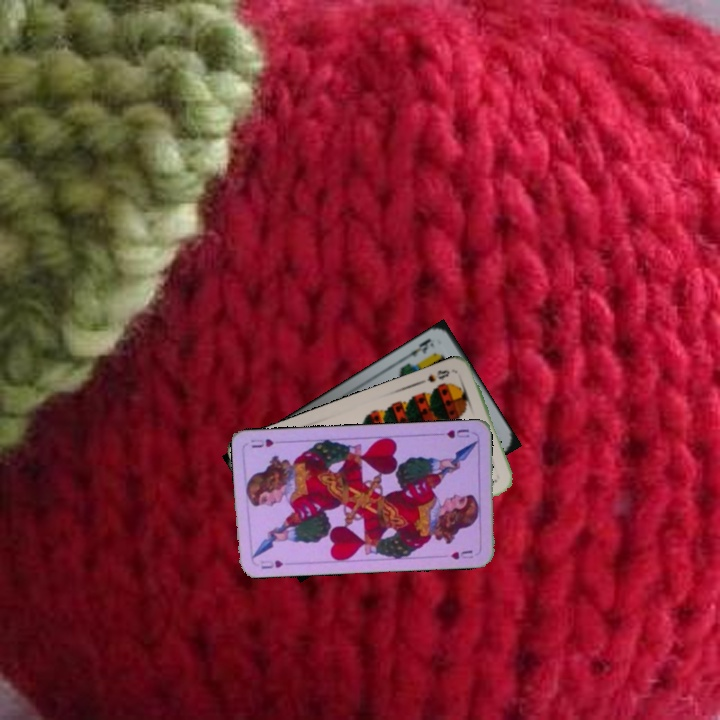EK: (400, 334, 437, 362)
HU: (442, 425, 472, 441), (257, 556, 286, 571)
S8: (423, 366, 452, 385)
